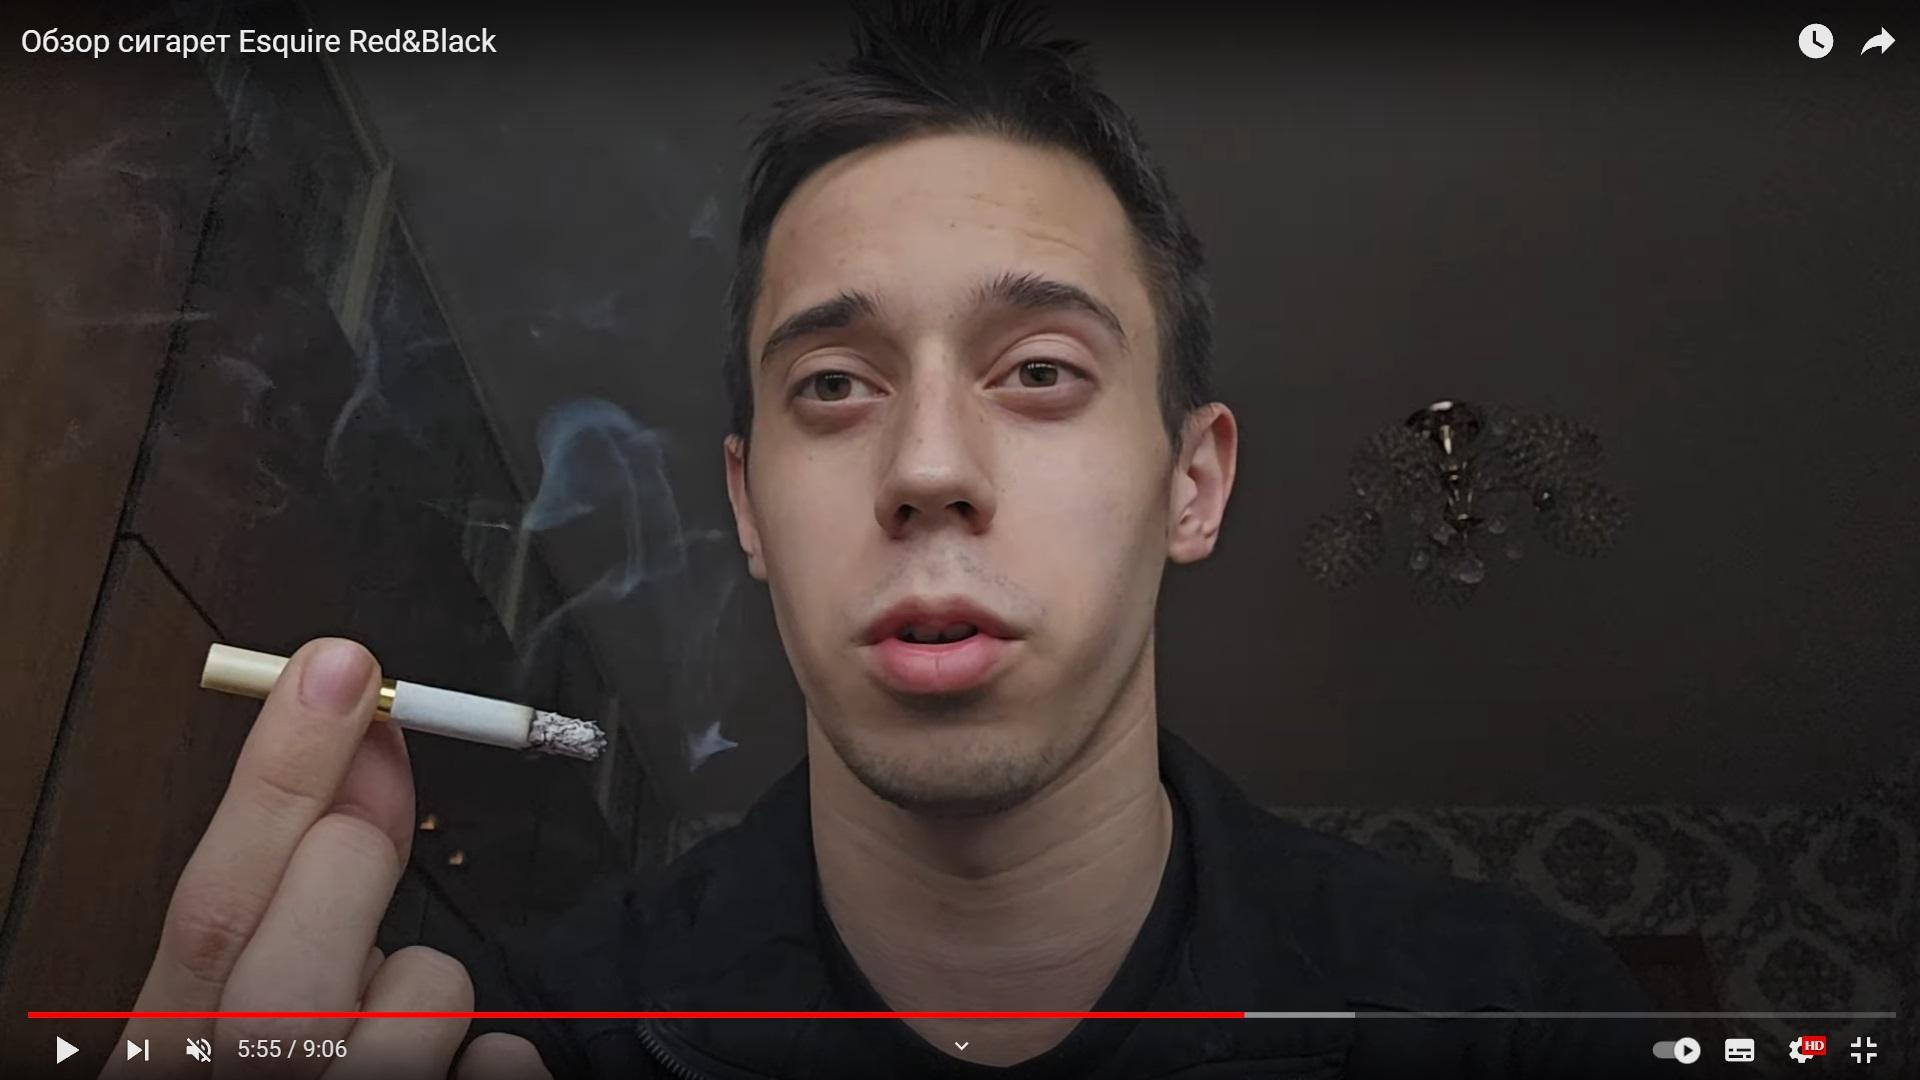cigarette: (200, 644, 608, 761)
